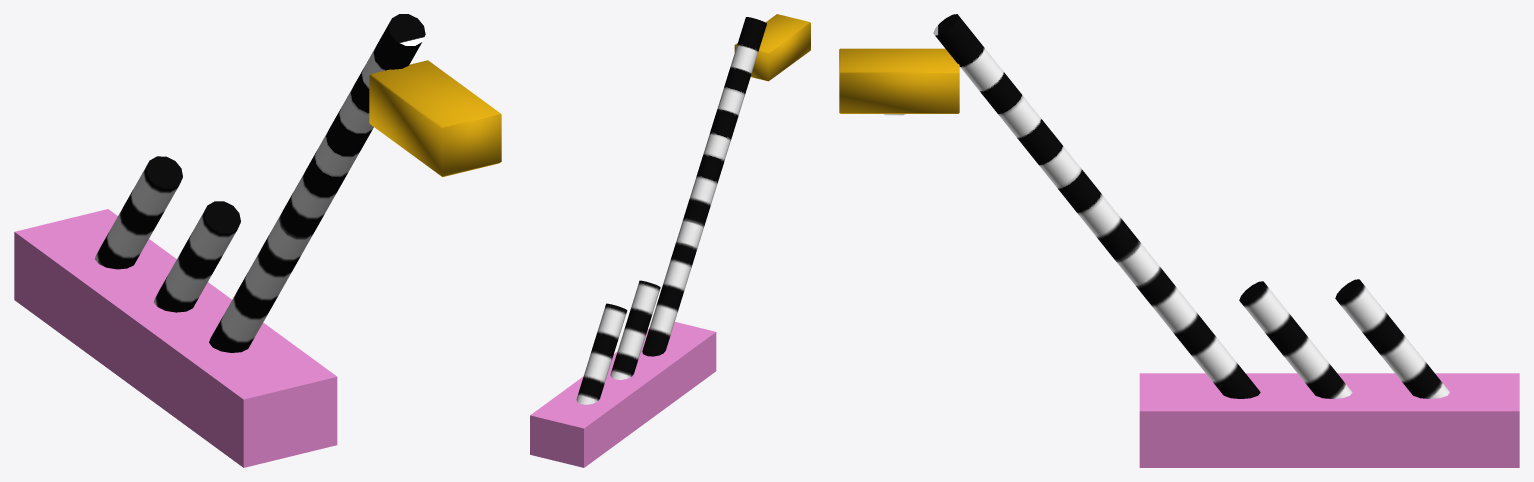
The model's file is Oceanic_Still_v01.glb.
3 views of the same model, side by side, from view 1: azimuth 30°, elevation 25°; view 2: azimuth 150°, elevation 25°; view 3: azimuth 270°, elevation 25° (orthographic). The views are drawn at different scales.
Visible parts, largest first — view 1: Cube_1, Neck, Head, Spine_02, Spine_01; view 2: Cube_1, Neck, Head, Spine_02, Spine_01; view 3: Cube_1, Neck, Head, Spine_02, Spine_01.
Boxes of the visible parts, x1,y1,x2,y2 form: Cube_1: (14, 209, 337, 467); Neck: (209, 14, 425, 352); Head: (369, 60, 501, 177); Spine_02: (95, 156, 182, 269); Spine_01: (153, 201, 240, 312); Cube_1: (530, 322, 716, 467); Neck: (642, 17, 766, 356); Head: (734, 14, 810, 81); Spine_02: (576, 303, 627, 404); Spine_01: (610, 280, 660, 379); Cube_1: (1139, 373, 1519, 467); Neck: (933, 14, 1260, 398); Head: (839, 48, 959, 113); Spine_02: (1335, 279, 1449, 398); Spine_01: (1239, 281, 1352, 398).
Size of the model in its own units: 1.23 by 6.54 by 9.32.
Materials: 6 (3 with a texture image).
